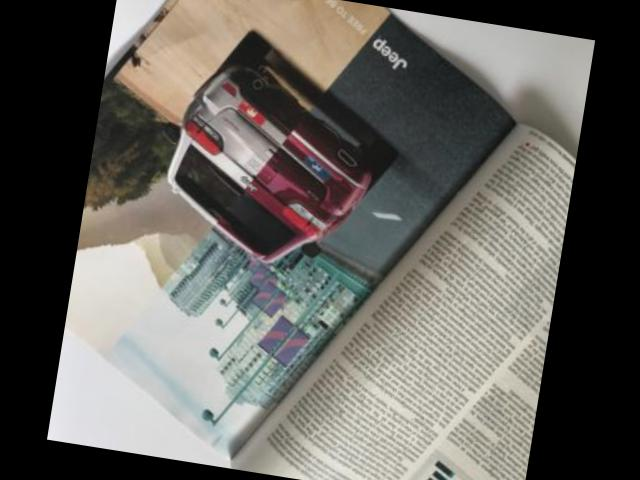cardboard paper: (62, 0, 516, 458), (231, 125, 576, 480)
